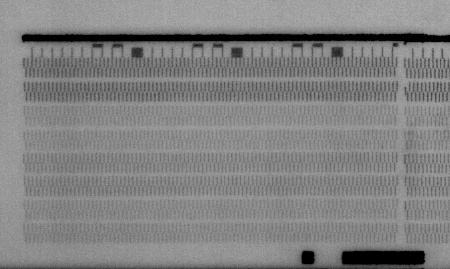Oblique printing: (401, 81, 412, 96)
